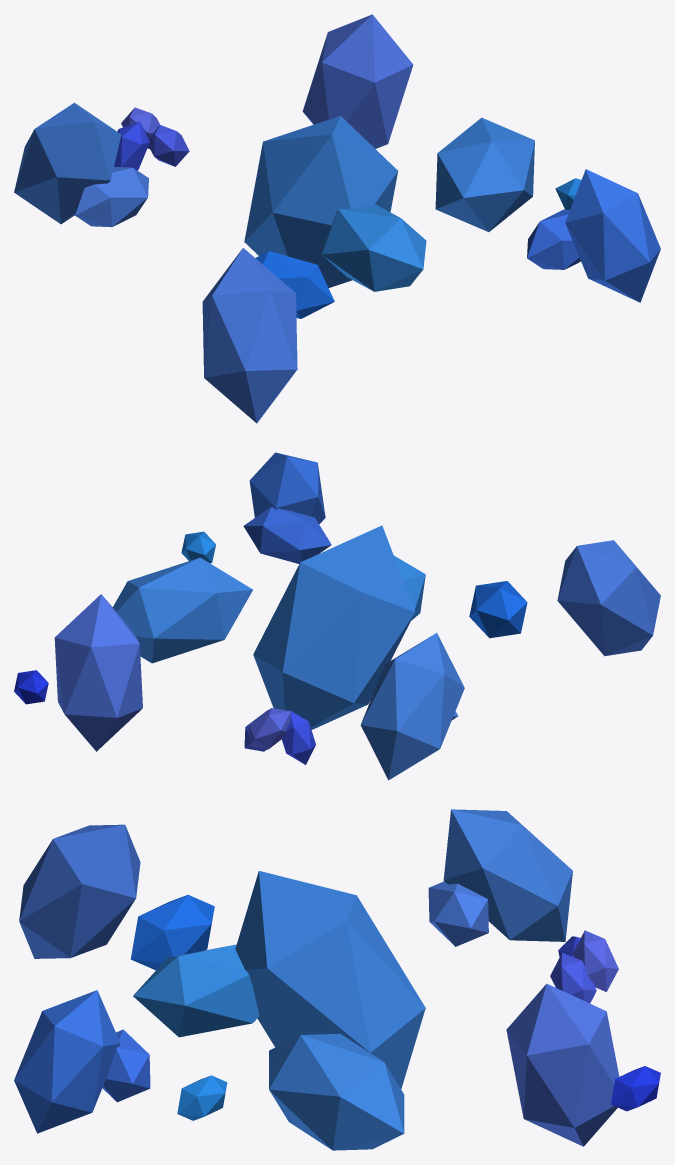
The model's file is Blue.fbx.
3 renders of one model, top to bottom at view 1: azimuth 30°, elevation 25°; view 2: azimuth 150°, elevation 25°; view 3: azimuth 270°, elevation 25°, orthographic. The views are drawn at different scales.
Parts seen in each view (by area): view 1: Icosphere.006, Icosphere.003, Icosphere.002, Icosphere.009, Icosphere.005, Icosphere.001, Icosphere.007, Icosphere.008, Icosphere.010, Icosphere.004, Icosphere.015, Icosphere.012; view 2: Icosphere.006, Icosphere.002, Icosphere.009, Icosphere.001, Icosphere.003, Icosphere.005, Icosphere.004, Icosphere.010, Icosphere.014, Icosphere.015, Icosphere.011, Icosphere.007 (+1 smaller); view 3: Icosphere.006, Icosphere.002, Icosphere.003, Icosphere.009, Icosphere.001, Icosphere.005, Icosphere.007, Icosphere.010, Icosphere.008, Icosphere.004, Icosphere.014, Icosphere.013 (+2 smaller).
Part boxes in pixels (x1,y1,x2,y2): Icosphere.006: (244, 116, 397, 287); Icosphere.003: (202, 248, 297, 423); Icosphere.002: (302, 14, 413, 148); Icosphere.009: (435, 117, 534, 231); Icosphere.005: (565, 169, 660, 302); Icosphere.001: (14, 102, 121, 224); Icosphere.007: (322, 204, 426, 291); Icosphere.008: (75, 166, 148, 227); Icosphere.010: (255, 251, 334, 318); Icosphere.004: (527, 209, 580, 269); Icosphere.015: (114, 121, 149, 170); Icosphere.012: (148, 125, 189, 166); Icosphere.006: (253, 525, 415, 729); Icosphere.002: (54, 594, 142, 751); Icosphere.009: (113, 557, 252, 663); Icosphere.001: (360, 633, 464, 780); Icosphere.003: (557, 540, 660, 656); Icosphere.005: (249, 452, 325, 524); Icosphere.004: (243, 506, 331, 563); Icosphere.010: (469, 581, 527, 638); Icosphere.014: (248, 708, 290, 749); Icosphere.015: (282, 710, 315, 764); Icosphere.011: (14, 670, 48, 704); Icosphere.007: (394, 555, 425, 620); Icosphere.006: (235, 871, 425, 1088); Icosphere.002: (506, 983, 619, 1146); Icosphere.003: (19, 824, 140, 958); Icosphere.009: (269, 1033, 404, 1150); Icosphere.001: (443, 809, 572, 941); Icosphere.005: (14, 990, 120, 1133); Icosphere.007: (133, 944, 259, 1037); Icosphere.010: (130, 895, 214, 970); Icosphere.008: (428, 881, 488, 946); Icosphere.004: (102, 1029, 150, 1102); Icosphere.014: (572, 930, 618, 991); Icosphere.013: (177, 1075, 227, 1120).
Size of the model in its own units: 613 by 257 by 696.
